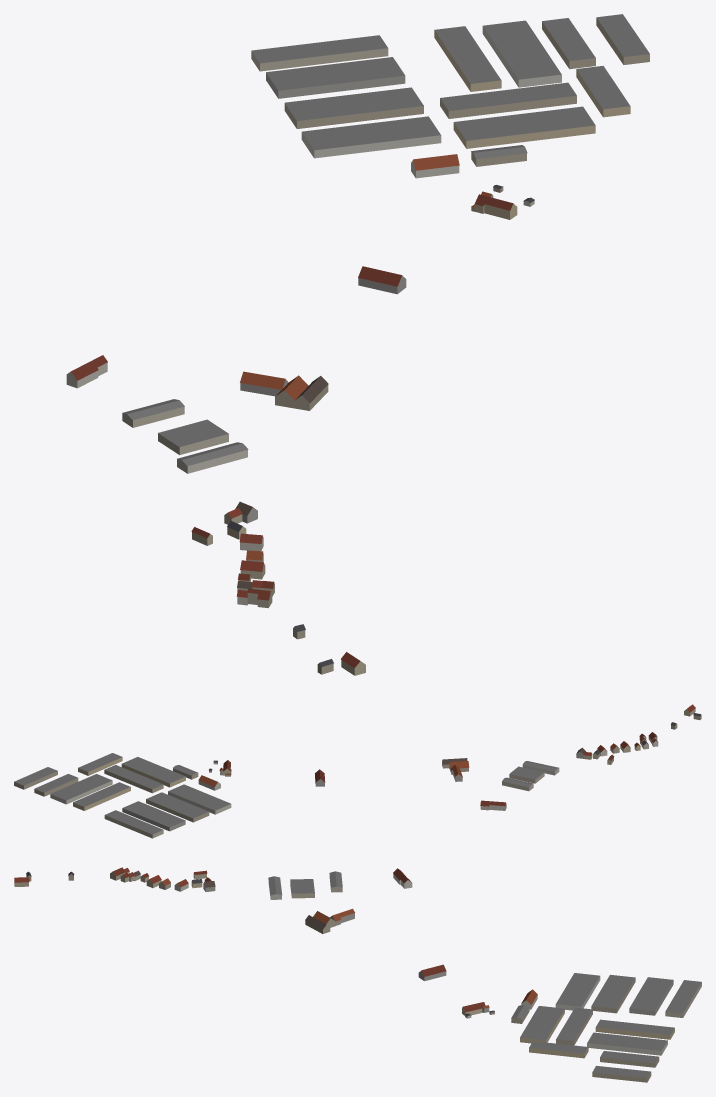
3 views of the same model, one above another, from view 1: azimuth 30°, elevation 25°; view 2: azimuth 150°, elevation 25°; view 3: azimuth 270°, elevation 25° (orthographic). The views are drawn at different scales.
Visible parts, largest first — view 1: buildings; view 2: buildings; view 3: buildings.
Part boxes in pixels (x1,y1,x2,y2): buildings: (66,14,649,675); buildings: (14,704,701,838); buildings: (14,867,701,1082).
Size of the model in its own units: 658 by 53.22 by 808.
